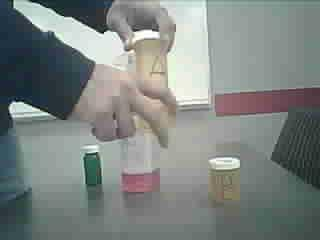Bottle A: (127, 26, 183, 130)
Bottle B: (205, 151, 247, 210)
Bottle C: (79, 142, 107, 188)
hazard: (107, 147, 170, 196)
